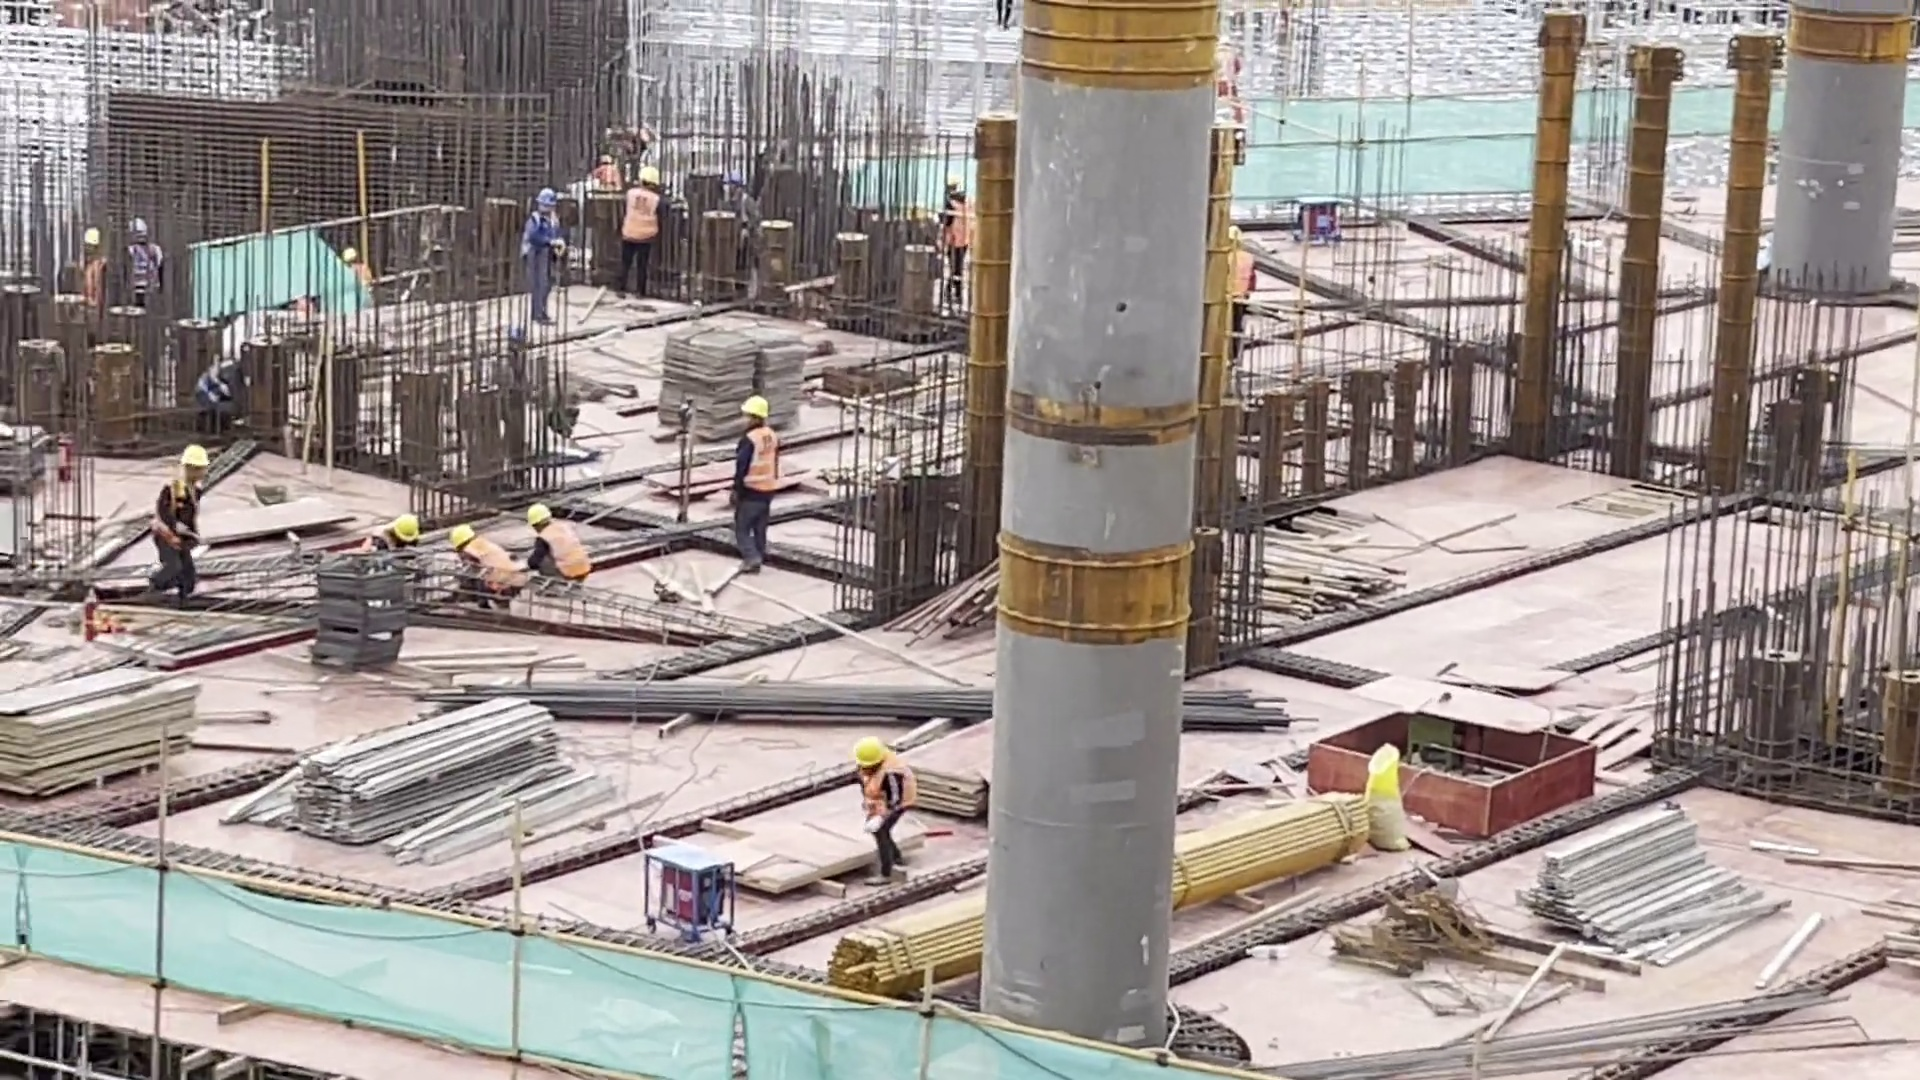board: (1, 659, 204, 808), (900, 710, 993, 817)
helmet: (852, 734, 889, 767), (393, 511, 422, 544), (178, 442, 210, 467), (741, 393, 772, 418), (449, 522, 475, 550), (525, 502, 554, 528), (534, 185, 558, 207), (639, 166, 662, 188)
person: (849, 737, 926, 877), (729, 390, 784, 576), (149, 443, 206, 596), (517, 501, 597, 588), (515, 186, 562, 328), (449, 525, 520, 608), (618, 159, 658, 301), (935, 183, 975, 305), (1226, 216, 1253, 366), (357, 506, 428, 561)
vest: (861, 750, 918, 823), (541, 519, 599, 581), (465, 538, 521, 597), (743, 423, 781, 494), (623, 184, 663, 245)
wood: (1254, 538, 1406, 631)
